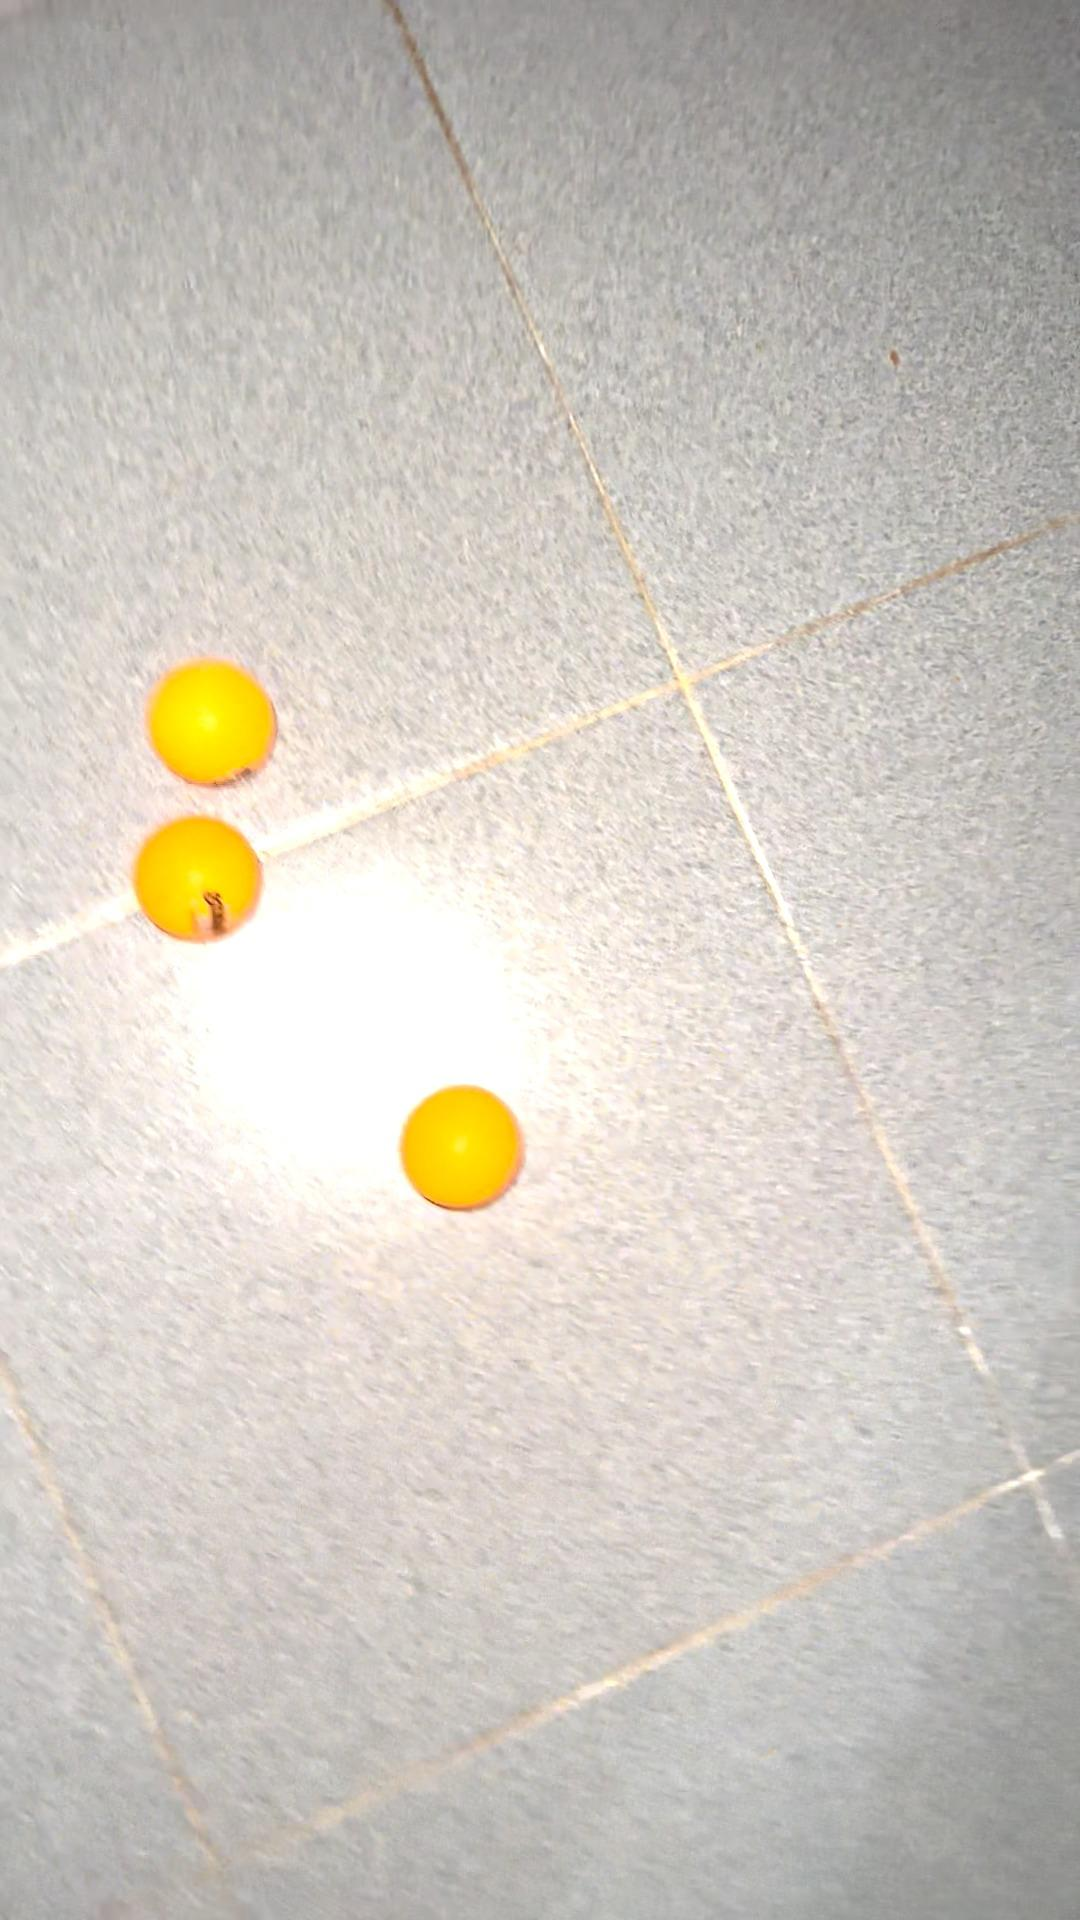oball: (132, 806, 274, 953), (388, 1071, 533, 1213), (154, 661, 284, 791)
